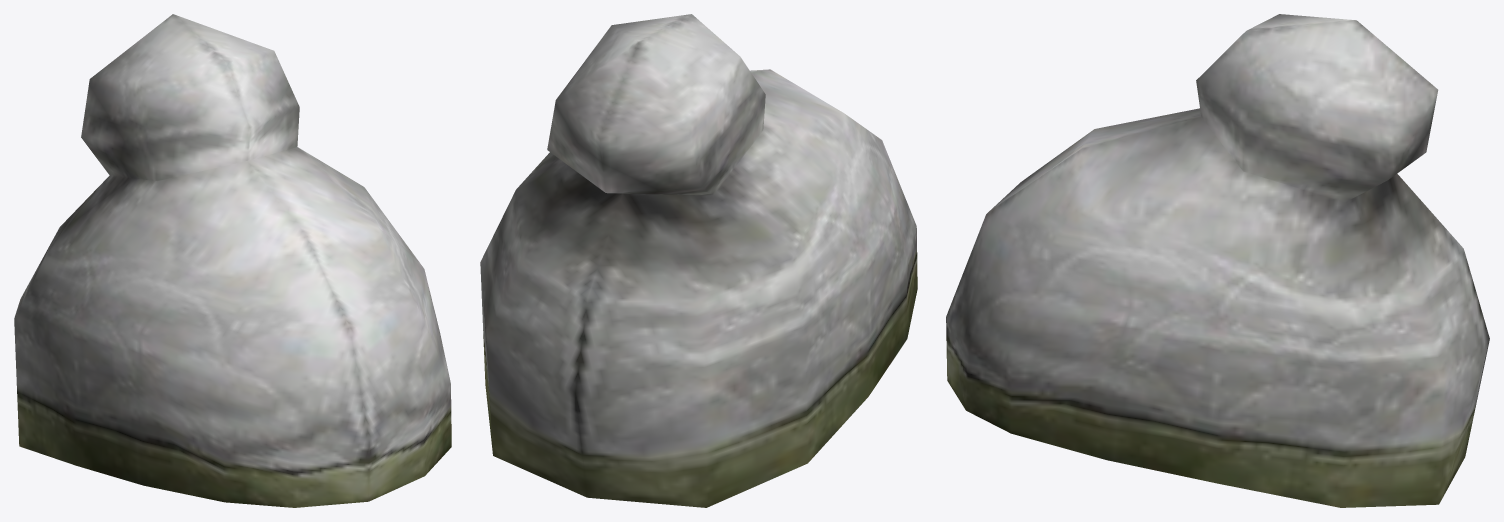
The model's file is clothes_01_ha.glb.
3 views of the same model, side by side, from view 1: azimuth 30°, elevation 25°; view 2: azimuth 150°, elevation 25°; view 3: azimuth 270°, elevation 25° (orthographic). The views are drawn at different scales.
Parts seen in each view (by area): view 1: clothes_01_ha; view 2: clothes_01_ha; view 3: clothes_01_ha.
Part boxes in pixels (bbox=[...]): clothes_01_ha: bbox=[14, 14, 451, 507]; clothes_01_ha: bbox=[480, 14, 917, 507]; clothes_01_ha: bbox=[946, 14, 1489, 507].
Size of the model in its own units: 0.1594 by 0.194 by 0.2189.
1 material, 1 textured.
